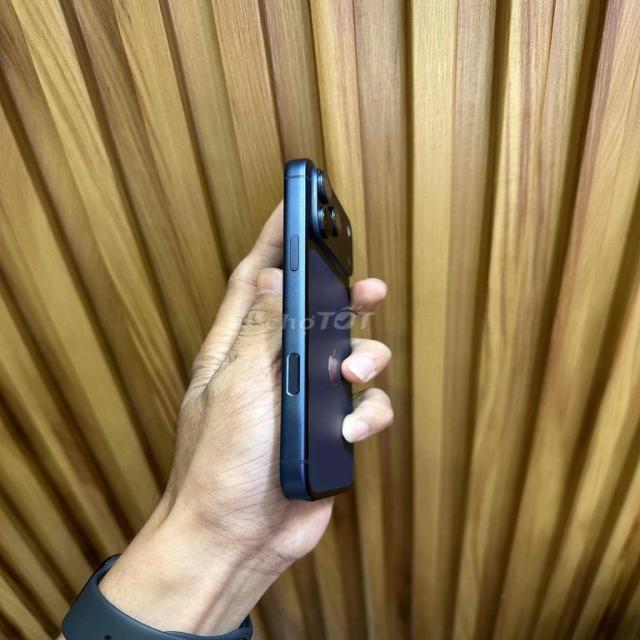gen_17: (272, 151, 384, 502)
